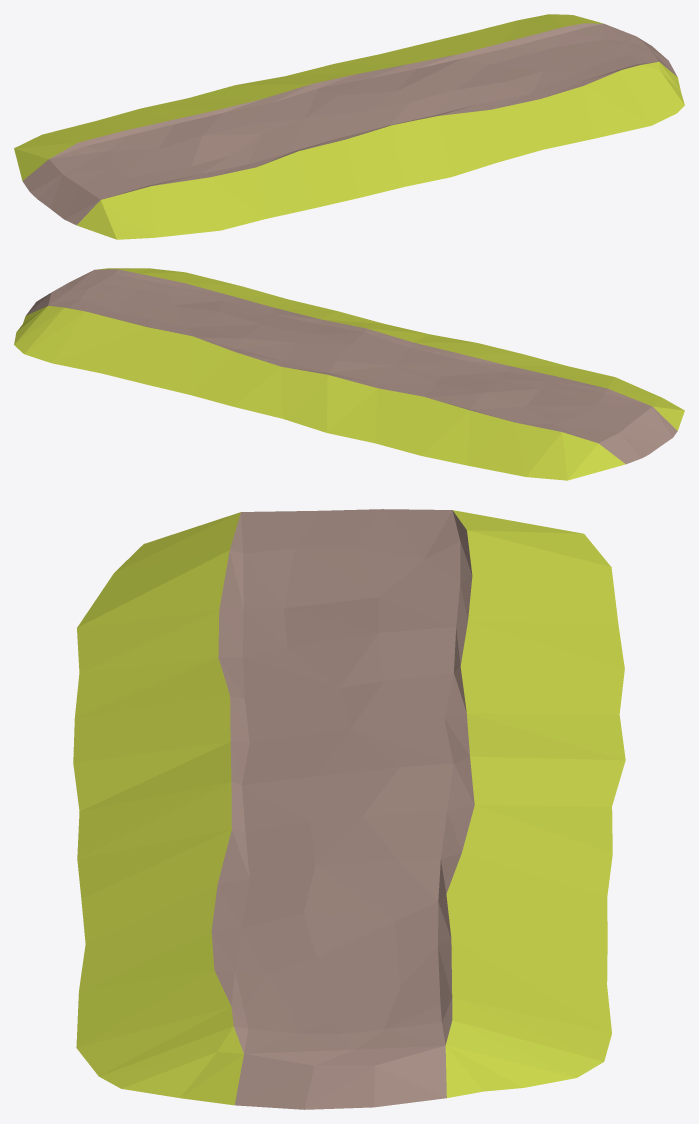
The model's file is Road_007.glb.
The picture shows the model from 3 angles, top to bottom: view 1: azimuth 30°, elevation 25°; view 2: azimuth 150°, elevation 25°; view 3: azimuth 270°, elevation 25°; orthographic projection. The views are drawn at different scales.
Parts seen in each view (by area): view 1: Road_007; view 2: Road_007; view 3: Road_007.
Part boxes in pixels (x1,y1,x2,y2): Road_007: (14, 14, 684, 239); Road_007: (14, 268, 684, 480); Road_007: (73, 509, 625, 1109).
Bounding box in the file's own units: 75.13 × 3.64 × 29.32.
Materials: 1 (1 with a texture image).
